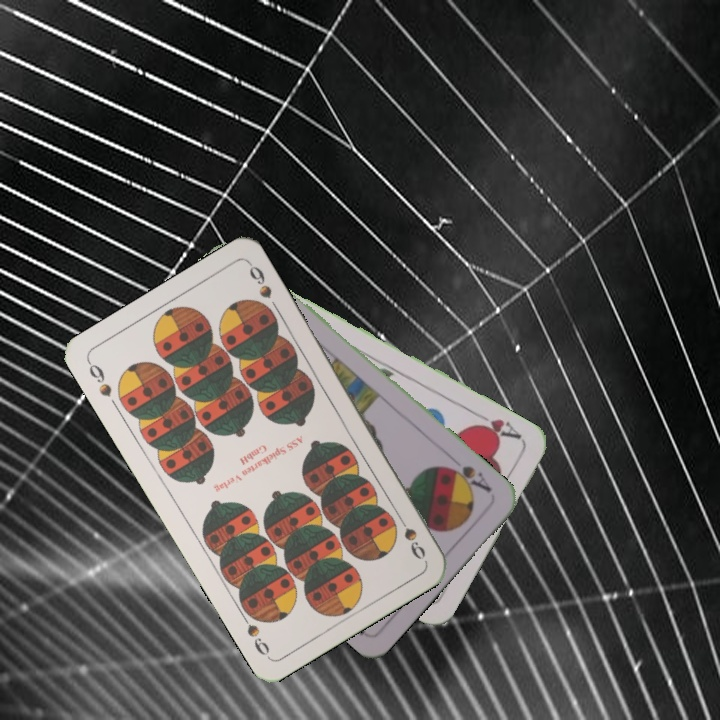HA: (469, 408, 524, 443)
S9: (392, 508, 429, 563), (83, 357, 115, 400)
SA: (441, 461, 494, 496)
